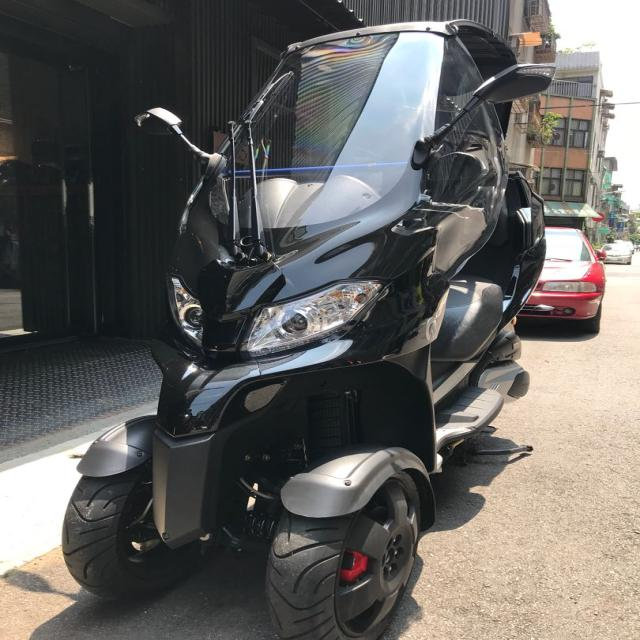Bike: (60, 20, 552, 640)
